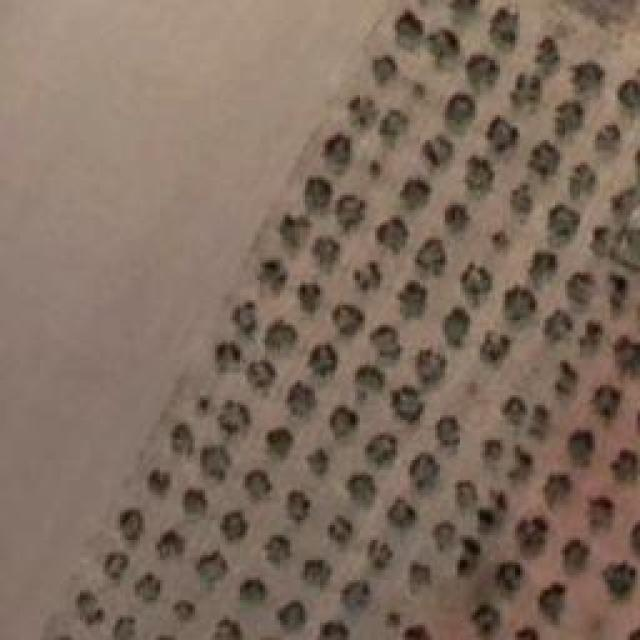Tree: (418, 133, 459, 169), (568, 58, 607, 95), (490, 8, 523, 49), (560, 160, 596, 197), (463, 263, 494, 305), (605, 270, 631, 320), (543, 203, 578, 240), (485, 115, 519, 153), (445, 90, 478, 129), (320, 133, 353, 172), (393, 385, 426, 423), (505, 285, 538, 322), (378, 218, 411, 254), (605, 563, 638, 599), (198, 550, 229, 588), (518, 518, 549, 556), (390, 10, 425, 43), (552, 100, 585, 135), (347, 95, 380, 130), (218, 400, 251, 435), (535, 33, 563, 73), (540, 582, 568, 622), (464, 158, 494, 195), (410, 453, 440, 490), (265, 320, 298, 353), (428, 28, 458, 64), (415, 240, 445, 276), (593, 385, 623, 421), (465, 55, 498, 87), (355, 365, 385, 400), (288, 382, 318, 417), (400, 283, 428, 320), (567, 430, 595, 467), (515, 75, 546, 108), (280, 215, 311, 248), (333, 305, 366, 336), (338, 196, 368, 230), (480, 333, 511, 365), (527, 144, 560, 174), (445, 308, 471, 346), (305, 177, 333, 212), (312, 237, 340, 272), (365, 435, 396, 466), (260, 260, 289, 293), (310, 343, 339, 376), (330, 405, 359, 438), (418, 350, 447, 383), (473, 605, 502, 638), (458, 535, 481, 576), (530, 253, 559, 285), (545, 310, 574, 342), (77, 593, 105, 626), (617, 337, 640, 377), (373, 325, 399, 360), (613, 450, 639, 485), (563, 540, 589, 575), (400, 180, 430, 210), (595, 123, 624, 154), (245, 470, 274, 501), (567, 273, 595, 305), (508, 180, 535, 213), (233, 302, 258, 337), (388, 498, 417, 528), (343, 582, 372, 612), (277, 603, 305, 634), (250, 360, 276, 393), (545, 475, 571, 508), (355, 262, 383, 292), (220, 512, 248, 542), (348, 475, 374, 507), (580, 320, 604, 354), (158, 530, 187, 558), (555, 363, 579, 396), (368, 54, 396, 82), (383, 110, 409, 140), (215, 344, 241, 374), (135, 572, 161, 602), (368, 540, 393, 571), (447, 0, 479, 24), (203, 448, 227, 480), (288, 490, 312, 522), (406, 78, 434, 105), (265, 535, 290, 565), (173, 423, 196, 455), (438, 418, 461, 450), (120, 510, 143, 542), (590, 498, 613, 530), (240, 580, 268, 606), (495, 565, 521, 593), (478, 508, 504, 536), (620, 83, 640, 118), (445, 205, 470, 233), (530, 405, 551, 438), (433, 522, 456, 552), (305, 560, 331, 586), (328, 518, 353, 545), (105, 553, 130, 580), (270, 430, 294, 458), (503, 398, 527, 426), (483, 440, 503, 471), (364, 155, 384, 185), (300, 285, 321, 313), (458, 480, 479, 508), (148, 470, 171, 495), (185, 490, 206, 517), (308, 450, 329, 476), (413, 562, 431, 592), (320, 622, 348, 640), (215, 622, 242, 640), (115, 618, 136, 640), (175, 600, 196, 621), (405, 625, 431, 640), (493, 233, 512, 251)
